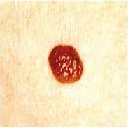Melanoma: (45, 43, 86, 85)
